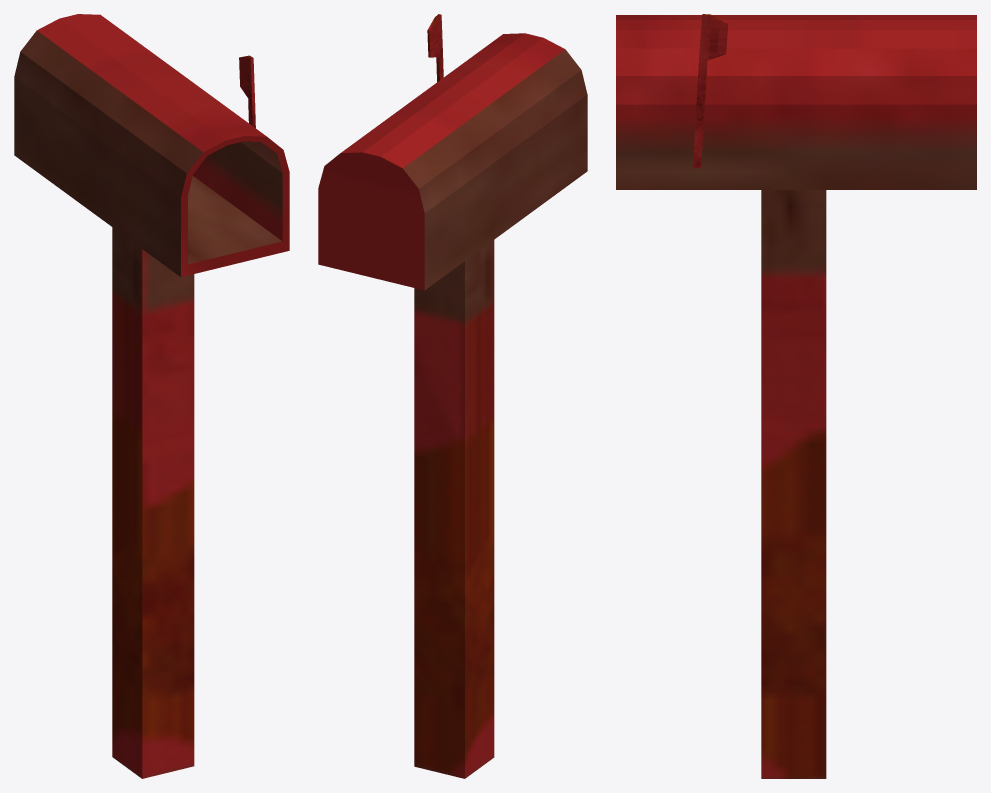
Rendered from buzon.obj.
3 renders of one model, left to right at view 1: azimuth 30°, elevation 25°; view 2: azimuth 150°, elevation 25°; view 3: azimuth 270°, elevation 25°, orthographic. The views are drawn at different scales.
Parts seen in each view (by area): view 1: Cube.001_Cube.002, Cube_Cube.001, Cube.003_Cube.004; view 2: Cube.001_Cube.002, Cube_Cube.001, Cube.003_Cube.004; view 3: Cube.001_Cube.002, Cube_Cube.001, Cube.003_Cube.004.
Part boxes in pixels (<box>): Cube.001_Cube.002: <box>14,14,289,276</box>; Cube_Cube.001: <box>112,227,194,778</box>; Cube.003_Cube.004: <box>239,55,255,128</box>; Cube.001_Cube.002: <box>318,33,587,290</box>; Cube_Cube.001: <box>414,240,494,778</box>; Cube.003_Cube.004: <box>427,14,443,81</box>; Cube.001_Cube.002: <box>616,15,976,189</box>; Cube_Cube.001: <box>761,190,826,778</box>; Cube.003_Cube.004: <box>692,14,728,168</box>.
Size of the model in its own units: 0.2097 by 1.28 by 0.5374.
Materials: 1 (1 with a texture image).
